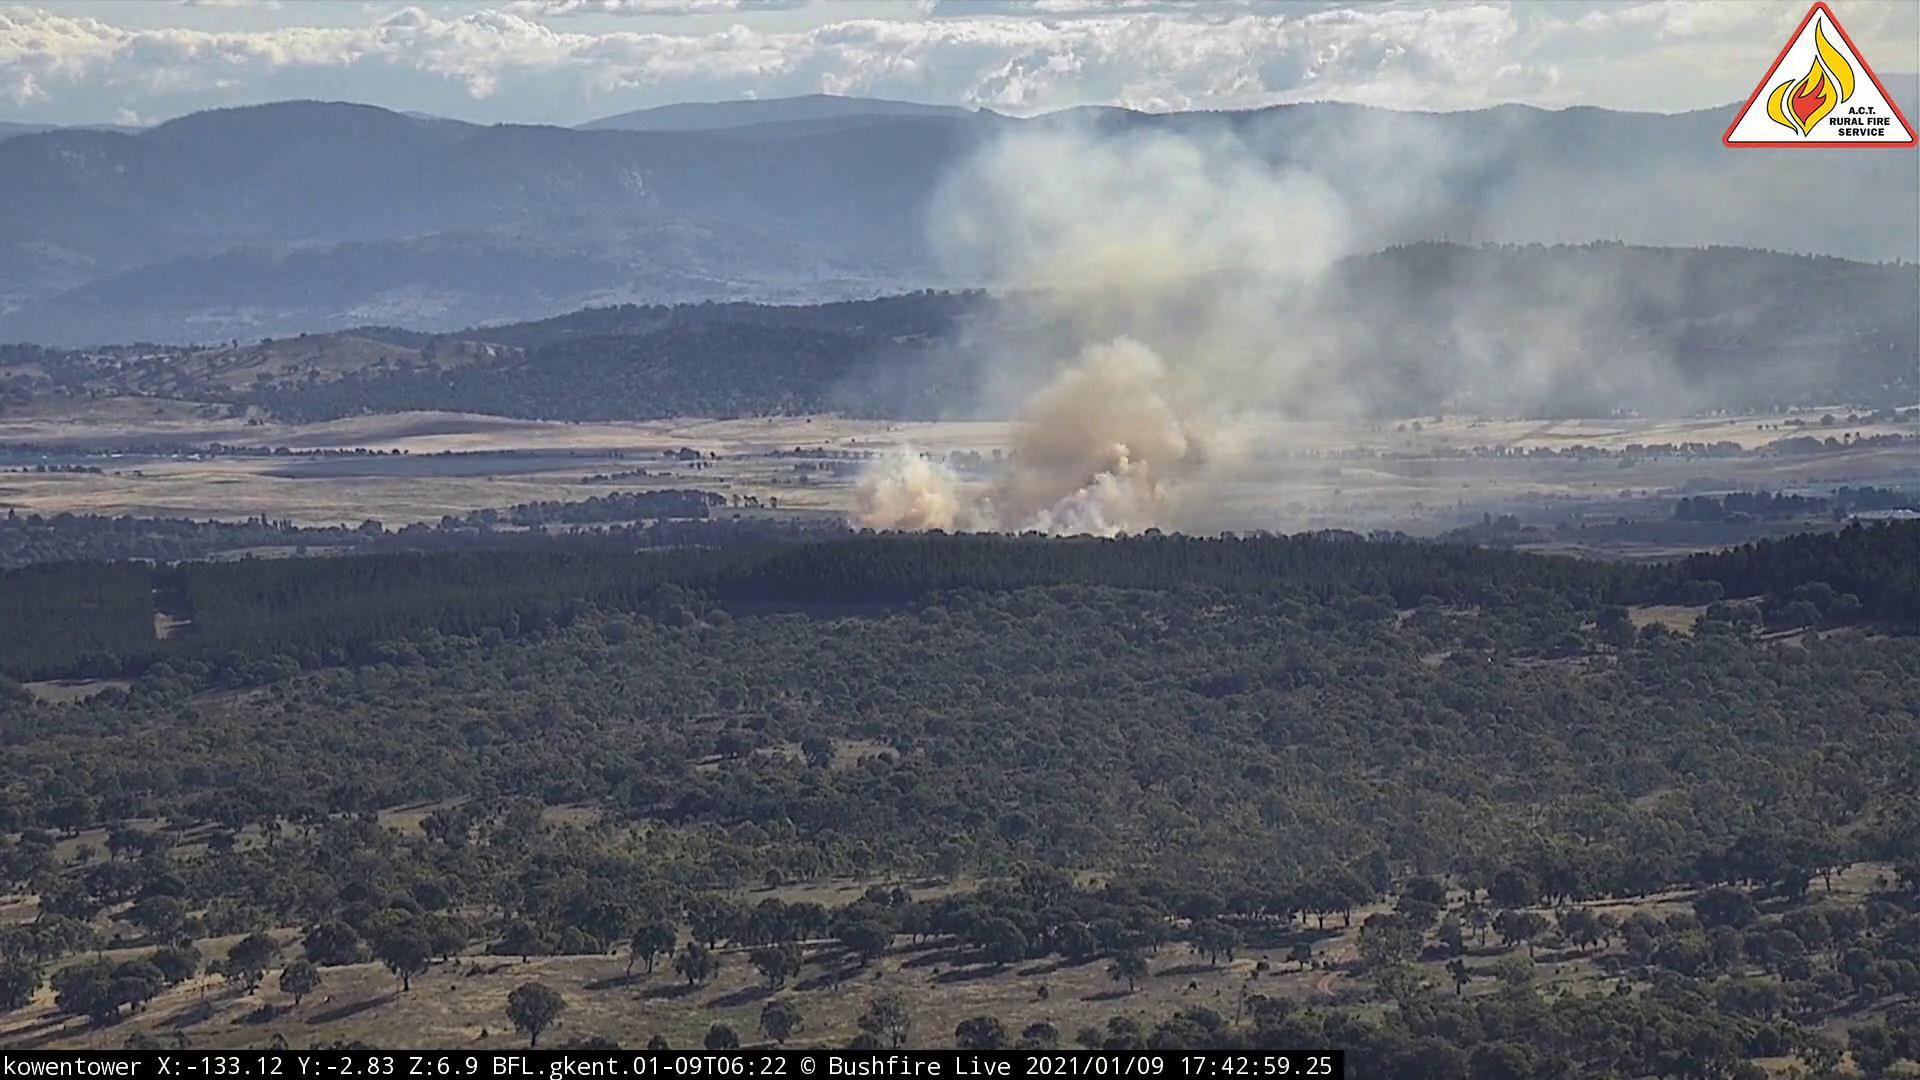Smoke: (840, 102, 1716, 546)
